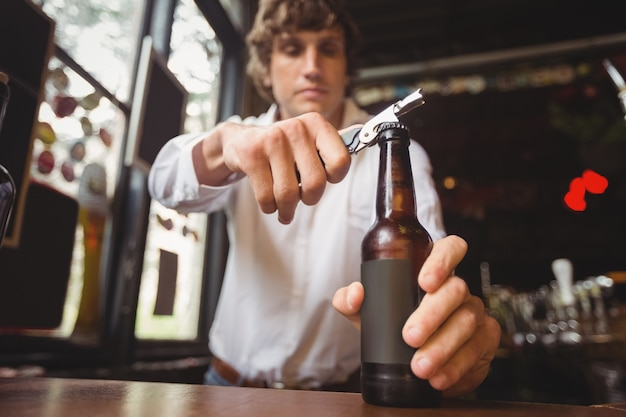alcohol: (357, 123, 445, 407)
